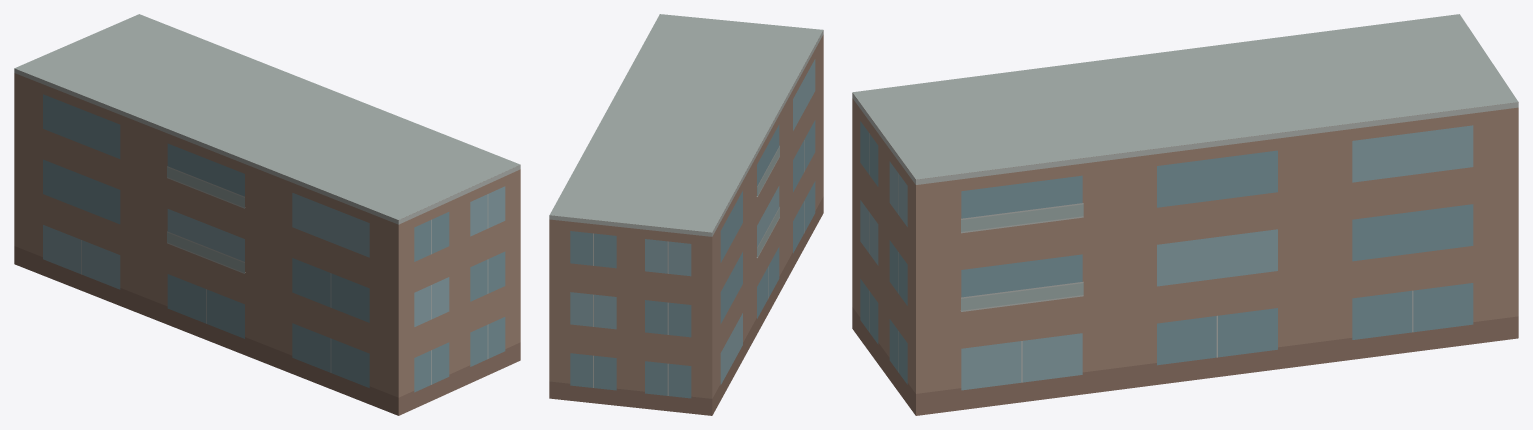
The model's file is survey-upis-32629850.glb.
3 renders of one model, left to right at view 1: azimuth 30°, elevation 25°; view 2: azimuth 150°, elevation 25°; view 3: azimuth 270°, elevation 25°, orthographic. The views are drawn at different scales.
Visible parts, largest first — view 1: survey-upis-32629850.tmp; view 2: survey-upis-32629850.tmp; view 3: survey-upis-32629850.tmp.
Boxes of the visible parts, x1,y1,x2,y2 form: survey-upis-32629850.tmp: (14, 14, 520, 415); survey-upis-32629850.tmp: (549, 14, 823, 415); survey-upis-32629850.tmp: (852, 14, 1518, 415).
Size of the model in its own units: 15.79 by 10.5 by 26.85.
